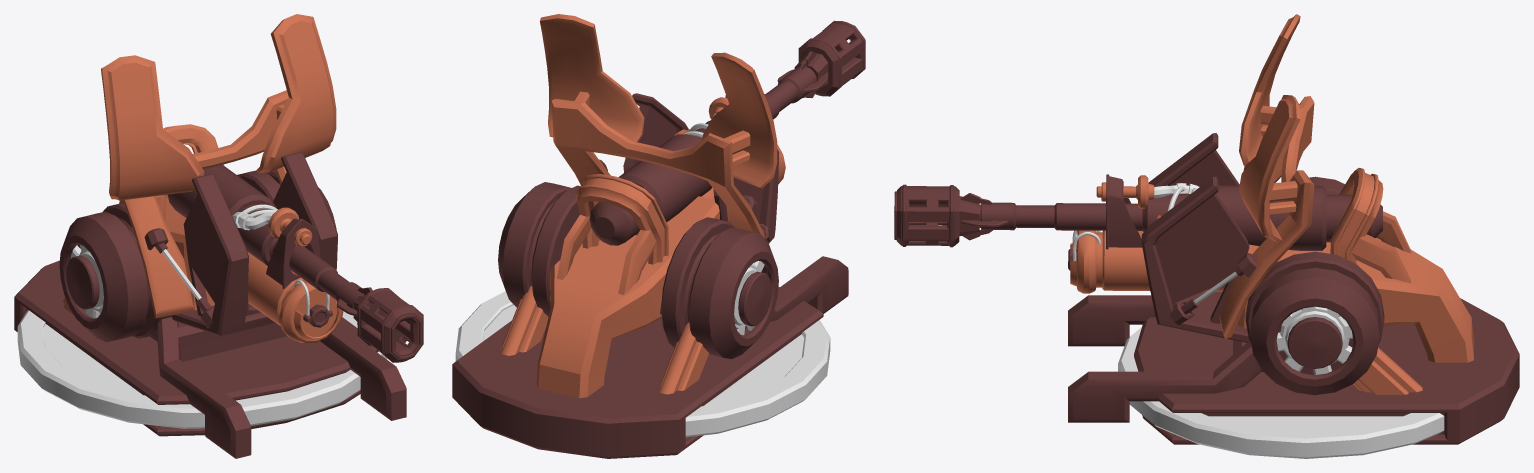
File: avr_turret.fbx
The picture shows the model from 3 angles, left to right: view 1: azimuth 30°, elevation 25°; view 2: azimuth 150°, elevation 25°; view 3: azimuth 270°, elevation 25°; orthographic projection.
Visible parts, largest first — view 1: gun_base_x_axis, gun_base_y_axis, gun_base_disc; view 2: gun_base_x_axis, gun_base_y_axis, gun_base_disc; view 3: gun_base_x_axis, gun_base_y_axis, gun_base_disc.
Boxes of the visible parts, <box> form: gun_base_x_axis: <box>59,14,423,362</box>; gun_base_y_axis: <box>14,260,406,458</box>; gun_base_disc: <box>17,310,387,428</box>; gun_base_x_axis: <box>498,14,865,398</box>; gun_base_y_axis: <box>452,256,848,458</box>; gun_base_disc: <box>455,291,830,437</box>; gun_base_x_axis: <box>894,14,1473,395</box>; gun_base_y_axis: <box>1068,295,1519,444</box>; gun_base_disc: <box>1118,327,1444,458</box>.
Size of the model in its own units: 35.33 by 34.48 by 58.75.
